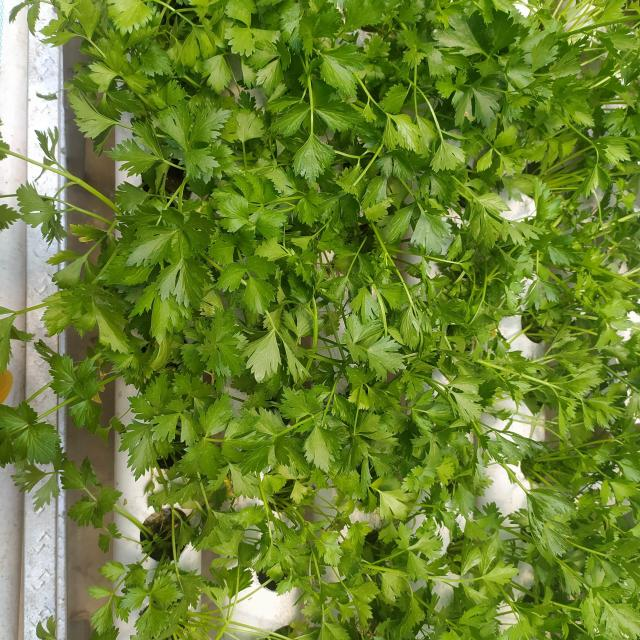Wet Waste: (369, 30, 624, 555), (9, 264, 339, 612), (5, 13, 348, 255)
